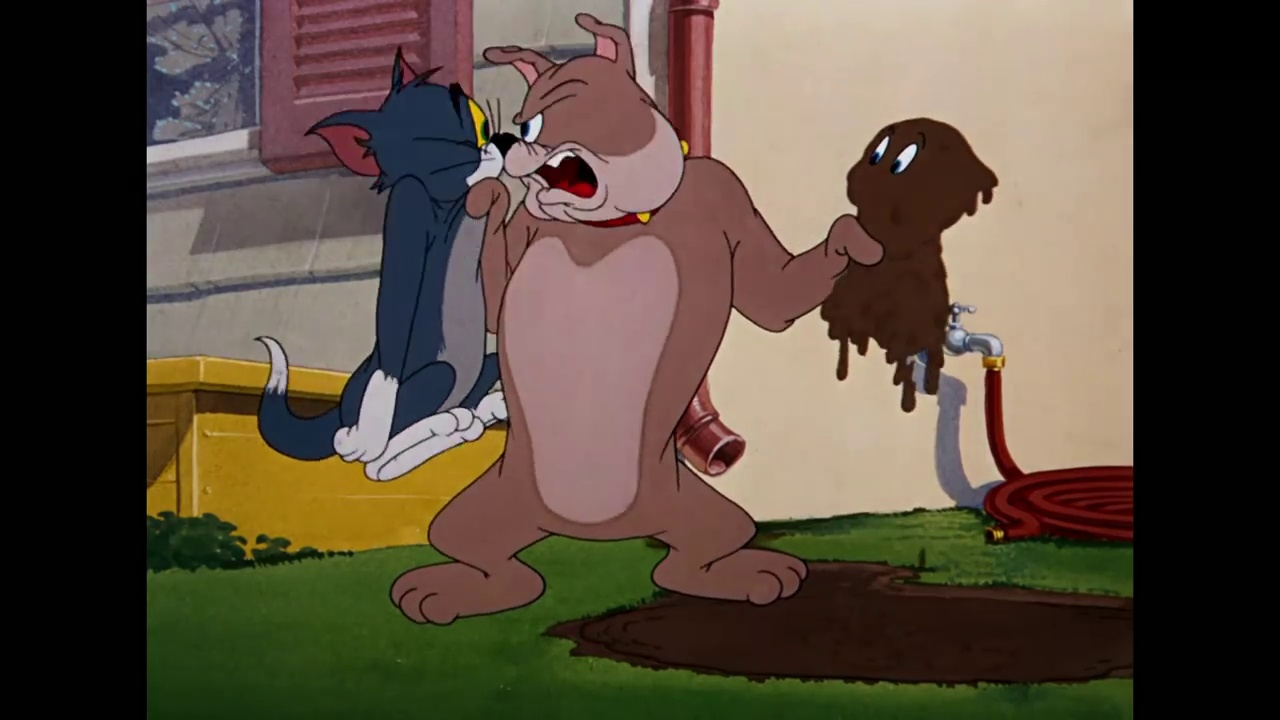spike: (491, 14, 689, 230)
tom: (300, 44, 506, 206)
